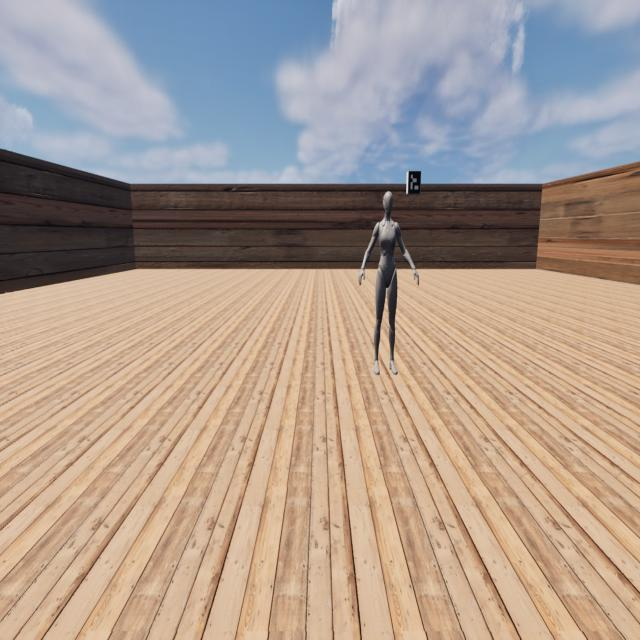aruco: (408, 171, 422, 194)
hip: (376, 268, 398, 278)
